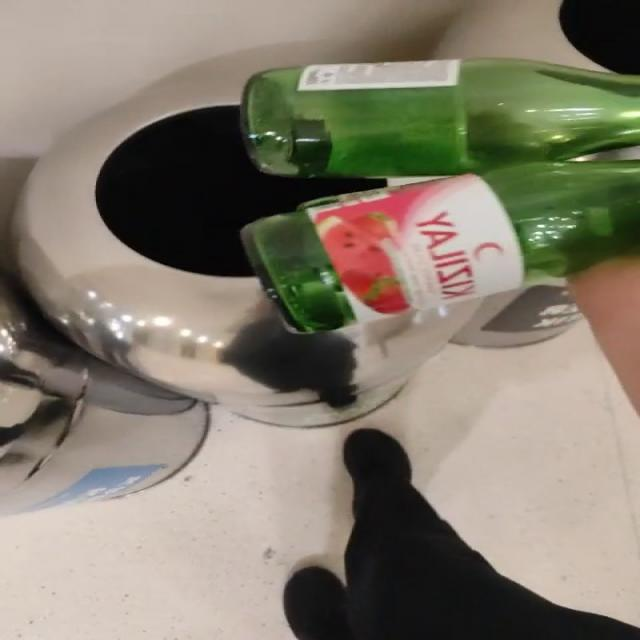bin: (13, 0, 638, 426)
glass: (243, 59, 640, 333)
